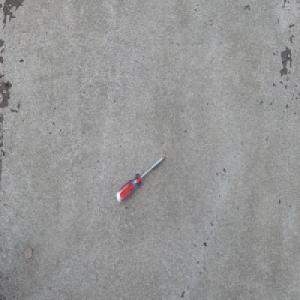Screwdriver: (115, 155, 166, 203)
